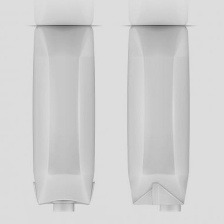carton: (26, 22, 103, 213), (123, 21, 194, 215)
